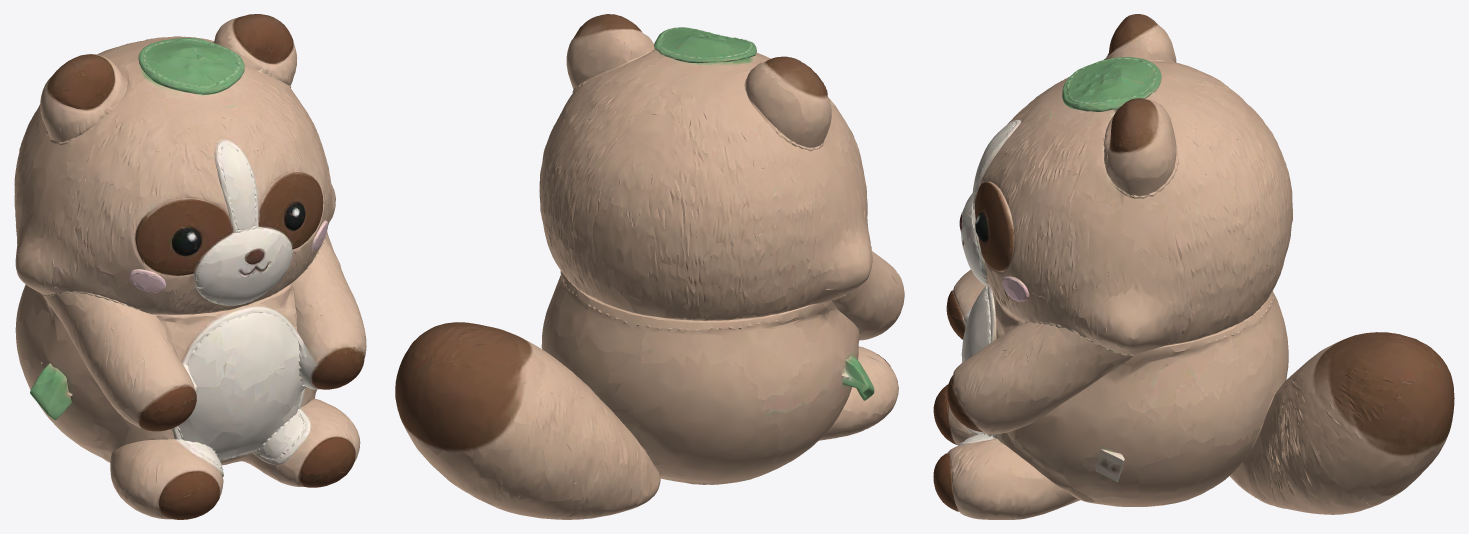
Rendered from tanuki.gen.glb.
The picture shows the model from 3 angles, left to right: view 1: azimuth 30°, elevation 25°; view 2: azimuth 150°, elevation 25°; view 3: azimuth 270°, elevation 25°; orthographic projection. The views are drawn at different scales.
Visible parts, largest first — view 1: LOD0; view 2: LOD0; view 3: LOD0.
Boxes of the visible parts, x1,y1,x2,y2 form: LOD0: (14, 14, 366, 519); LOD0: (395, 14, 904, 519); LOD0: (933, 14, 1454, 519).
Size of what is drawn, in the model's own units: 0.1713 by 0.2058 by 0.2334.
Materials: 1 (1 with a texture image).
